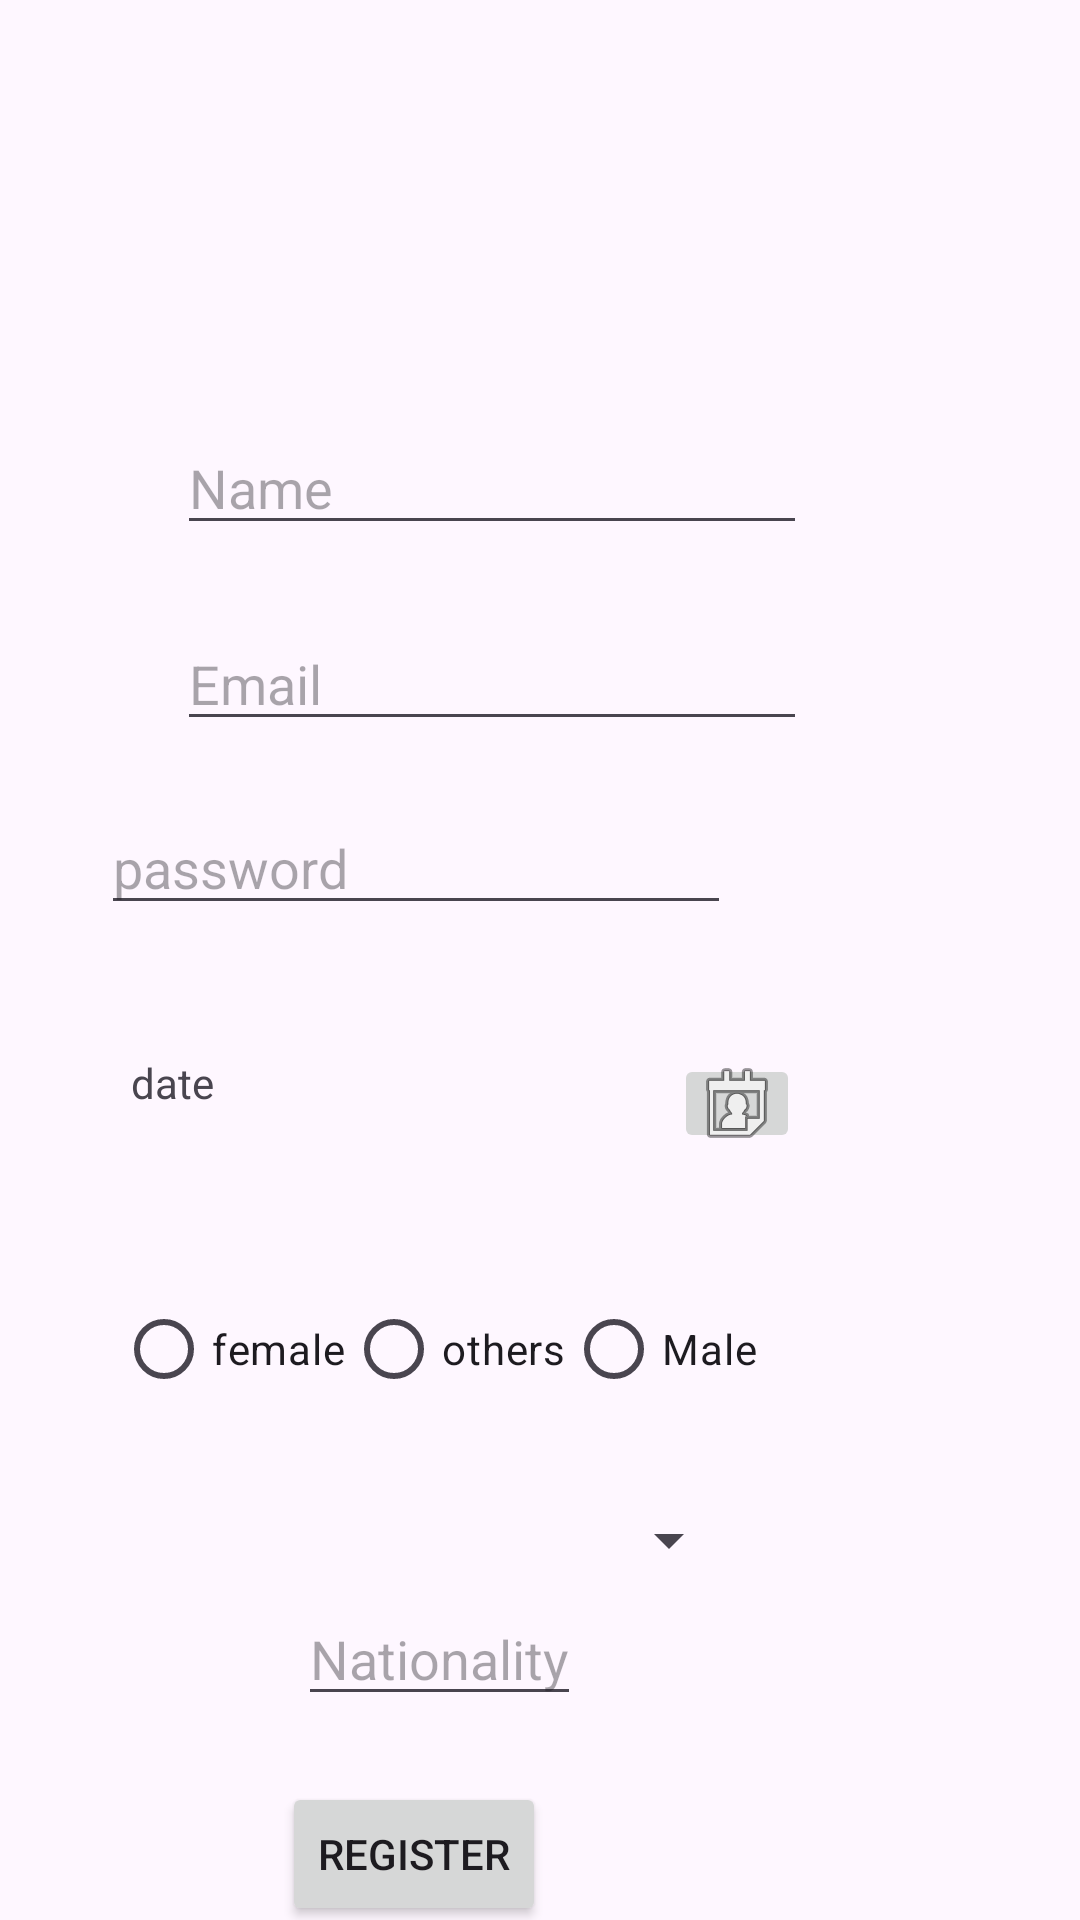

Icons on this 1080 × 1920 Android screen, each with the point to tap as [x,y]:
calendar: [737,1103]
